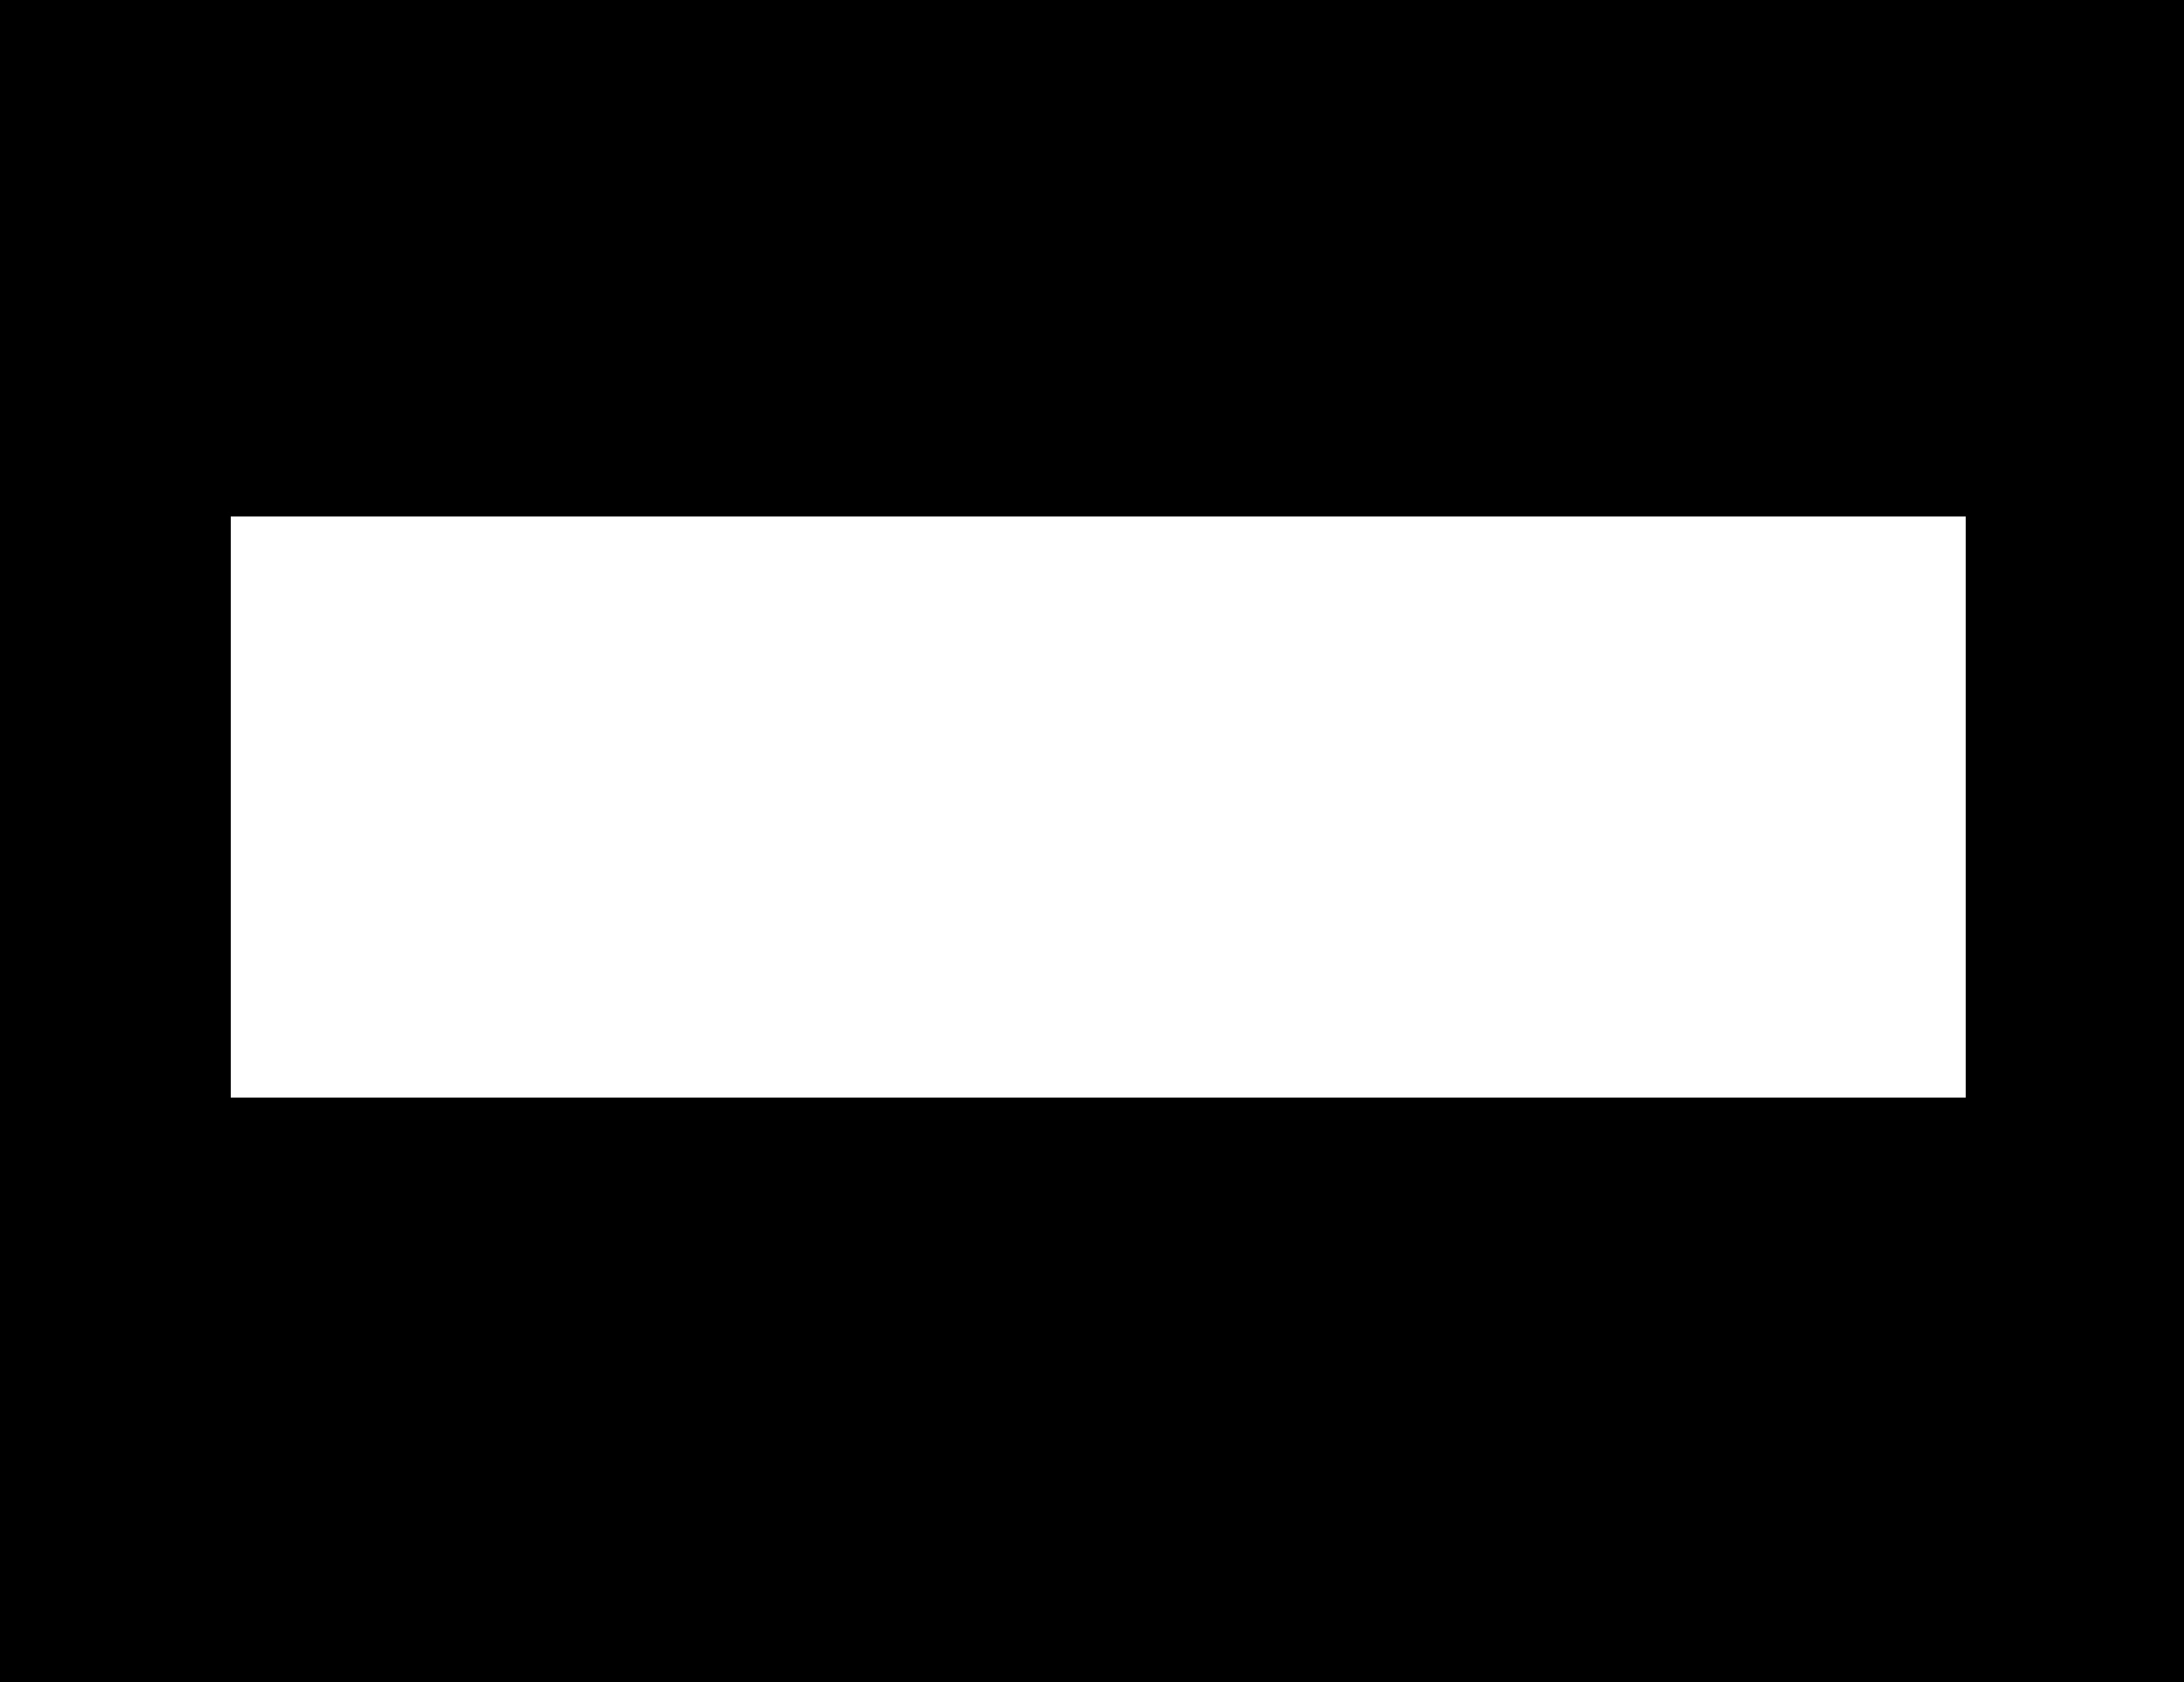table: (231, 516, 1965, 1097)
